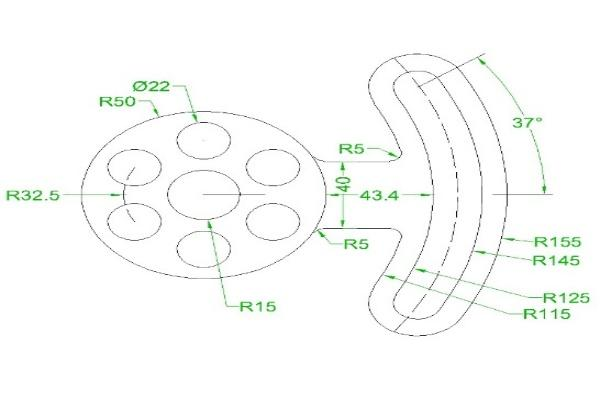dimensions: (4, 178, 67, 212), (513, 301, 584, 328), (222, 292, 288, 318), (85, 91, 141, 118), (535, 285, 594, 309), (125, 73, 178, 97), (527, 254, 588, 273), (327, 133, 373, 158), (535, 229, 586, 251), (359, 187, 401, 210), (327, 171, 358, 199), (340, 233, 373, 256)
